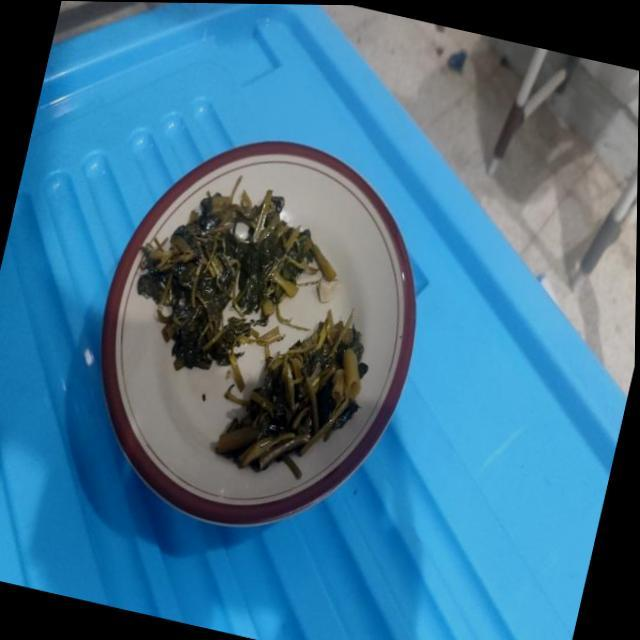tumis_kangkung: (137, 176, 320, 387), (215, 311, 368, 478)
